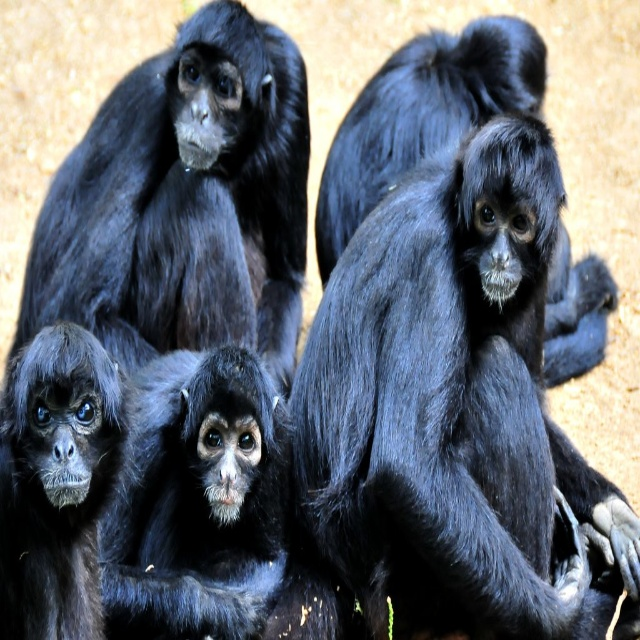Monkey: (272, 62, 627, 637)
